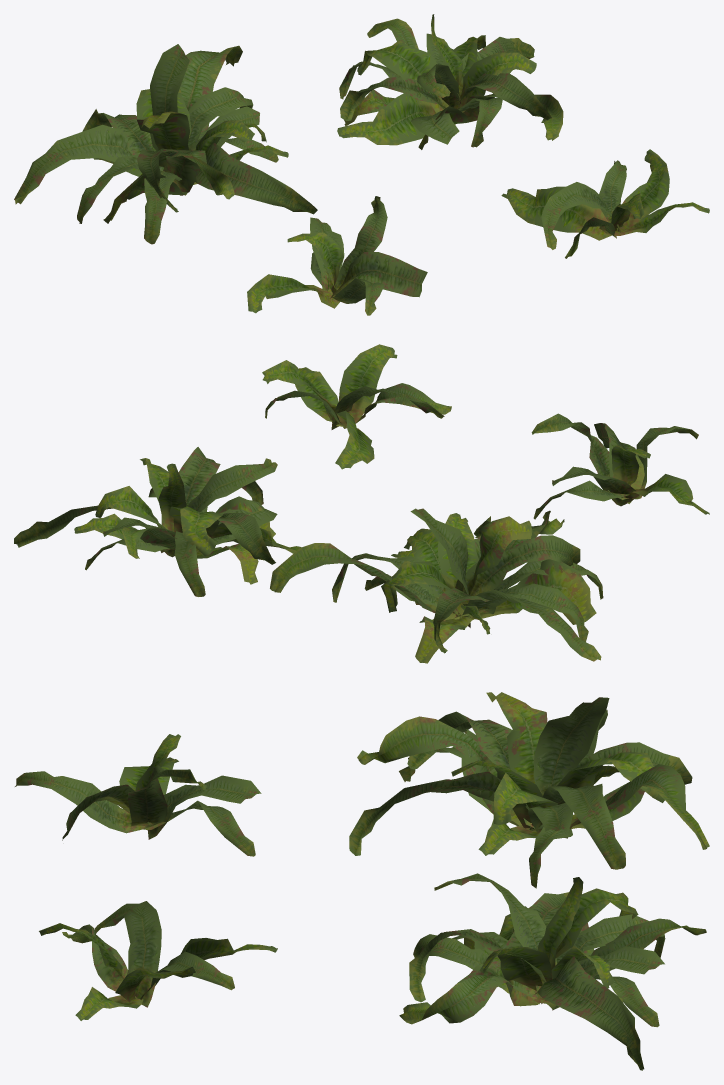
File: fern-02-lod1.glb
3 renders of one model, top to bottom at view 1: azimuth 30°, elevation 25°; view 2: azimuth 150°, elevation 25°; view 3: azimuth 270°, elevation 25°, orthographic. The views are drawn at different scales.
Parts seen in each view (by area): view 1: fern_02_b; view 2: fern_02_b; view 3: fern_02_b.
Part boxes in pixels (bbox=[...]): fern_02_b: bbox=[14, 14, 709, 315]; fern_02_b: bbox=[14, 344, 709, 663]; fern_02_b: bbox=[15, 692, 709, 1070].
Bounding box in the file's own units: 1.97 × 0.4277 × 1.72.
Materials: 1 (1 with a texture image).
